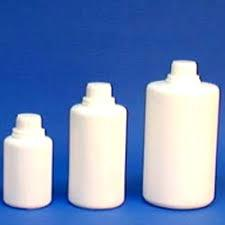Container for household chemicals: (136, 42, 221, 209), (69, 72, 133, 214), (1, 101, 53, 216)
